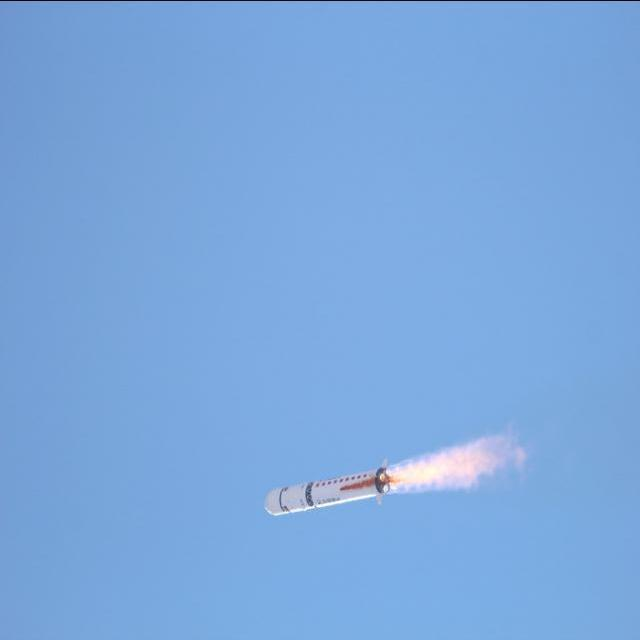Missile: (260, 462, 392, 517)
